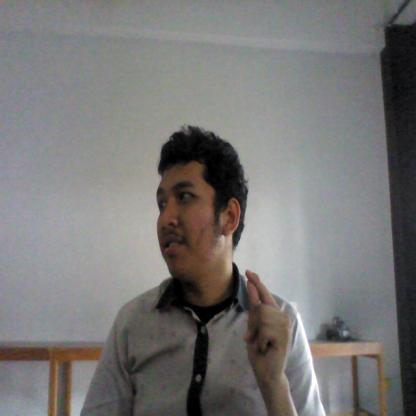R: (236, 264, 301, 382)
